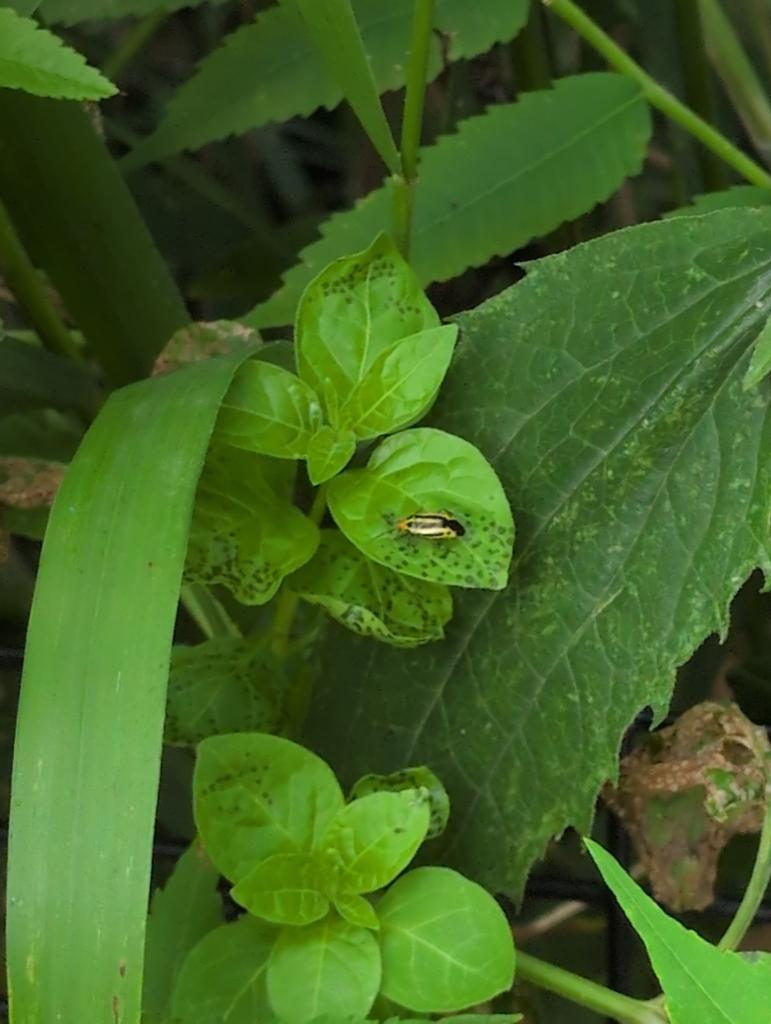plant_bugs: (364, 491, 474, 564)
